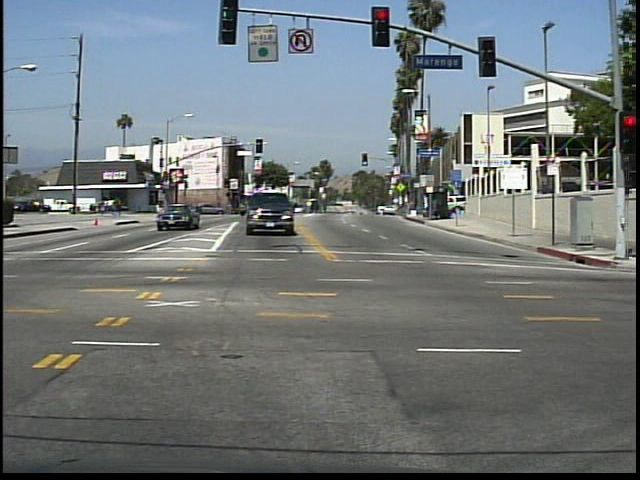person: (113, 193, 127, 221)
